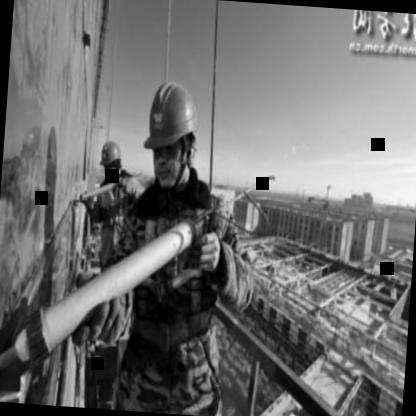helmet: (135, 72, 199, 202), (98, 133, 127, 182)
